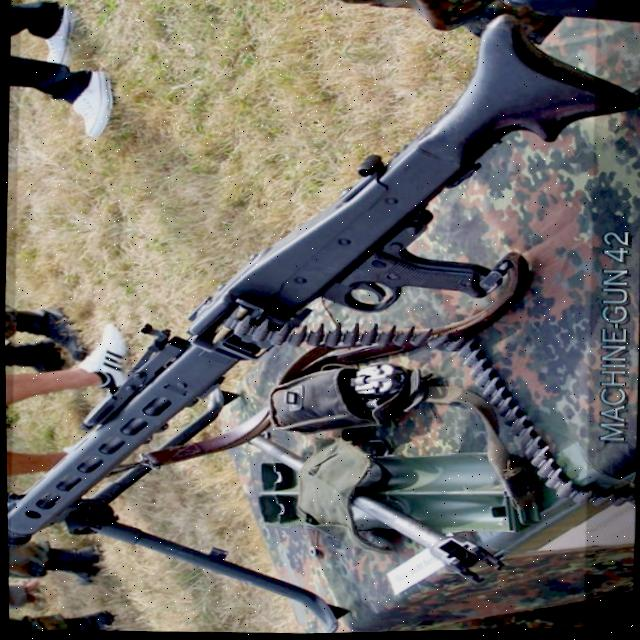firearm: (0, 3, 640, 588)
